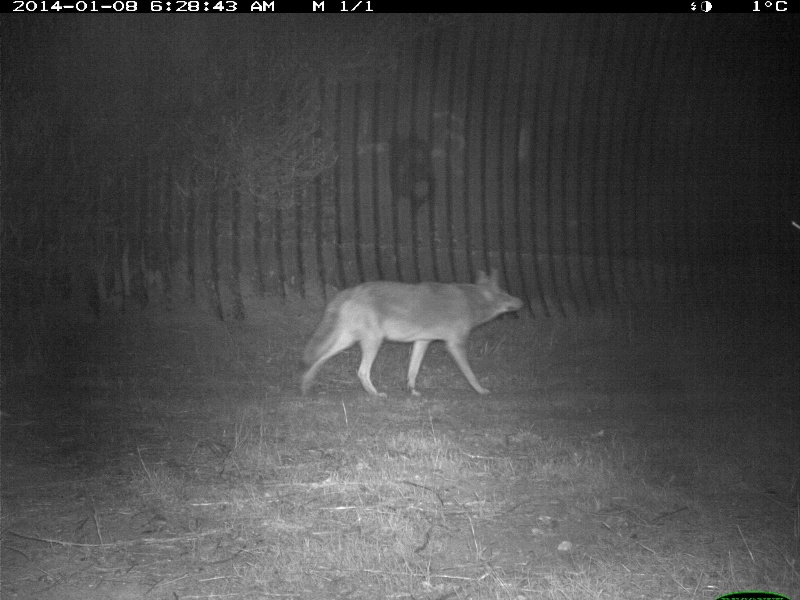coyote: (294, 269, 525, 405)
